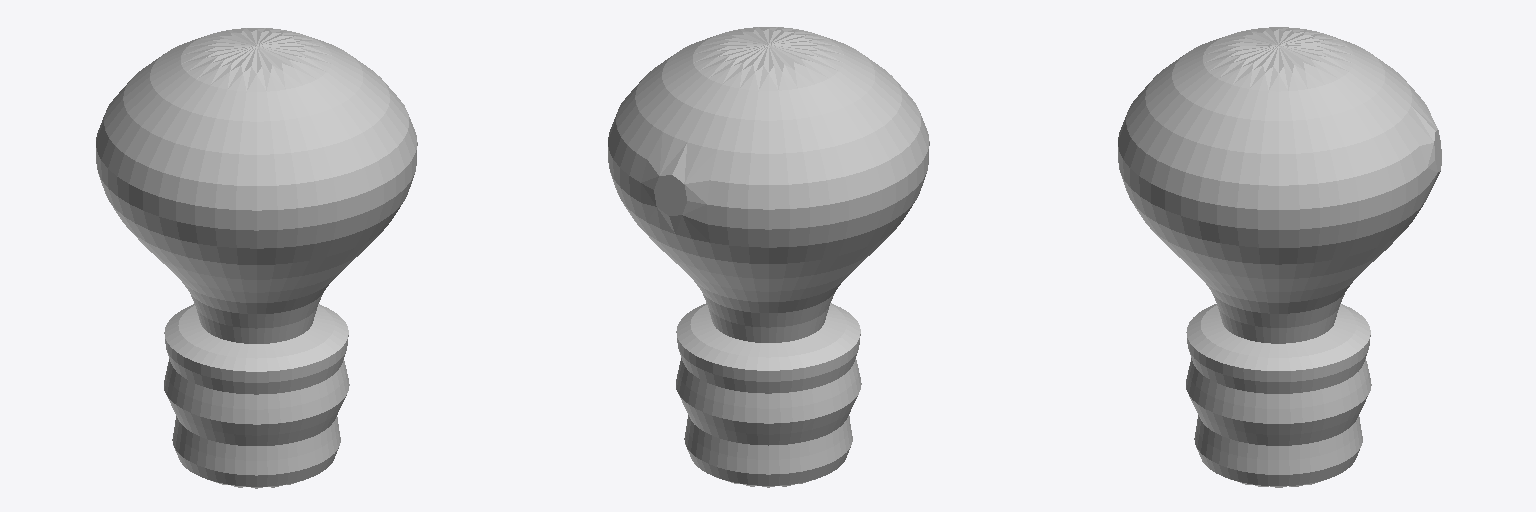
Rendered from LightBulb.obj.
3 views of the same model, side by side, from view 1: azimuth 30°, elevation 25°; view 2: azimuth 150°, elevation 25°; view 3: azimuth 270°, elevation 25° (orthographic).
Visible parts, largest first — view 1: Cone001; view 2: Cone001; view 3: Cone001.
Part boxes in pixels (left/top/right/bottom): Cone001: left=96, top=28, right=417, bottom=488; Cone001: left=608, top=27, right=929, bottom=487; Cone001: left=1118, top=27, right=1441, bottom=487.
Size of the model in its own units: 26.39 by 38.12 by 26.61.